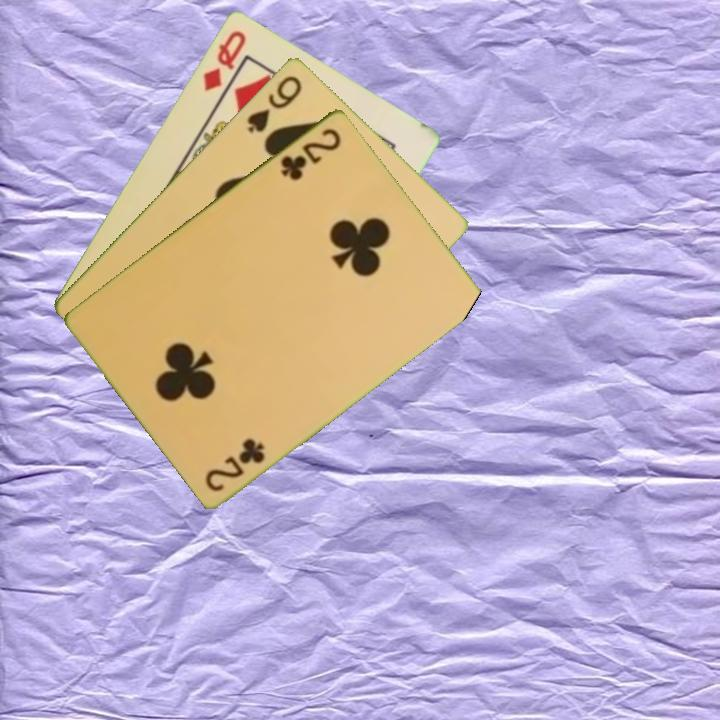2c: (277, 123, 344, 183), (201, 434, 268, 494)
9s: (243, 71, 305, 136)
Qd: (199, 26, 249, 95)
